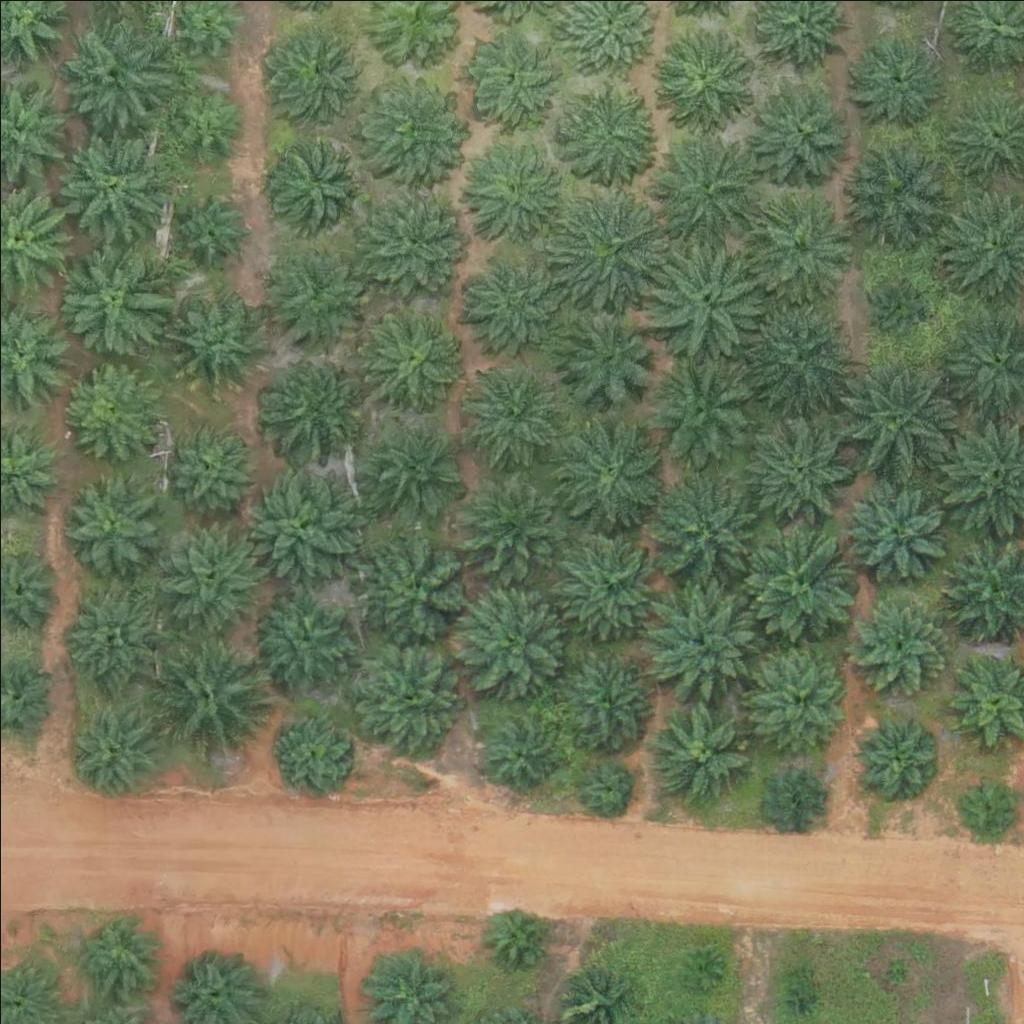Kelapa_Sawit: (832, 350, 957, 476), (731, 519, 856, 645), (735, 290, 860, 416), (648, 470, 773, 596), (638, 239, 763, 365), (543, 408, 668, 534), (548, 183, 673, 309), (343, 635, 468, 761), (355, 524, 480, 650), (350, 177, 475, 303), (235, 460, 360, 586), (144, 634, 269, 760), (148, 511, 273, 637), (46, 235, 171, 361), (46, 122, 171, 248), (642, 125, 767, 251), (547, 517, 672, 642), (836, 136, 949, 250), (646, 583, 759, 696), (645, 351, 758, 464), (550, 295, 663, 408), (451, 241, 564, 354), (56, 18, 169, 131), (359, 66, 472, 179), (463, 133, 576, 246), (739, 187, 851, 301), (836, 471, 948, 584), (745, 414, 857, 527), (458, 580, 570, 693), (457, 468, 569, 581), (852, 590, 952, 691), (748, 649, 848, 750), (648, 701, 748, 802), (559, 647, 659, 748), (360, 413, 460, 514), (359, 312, 459, 413), (252, 357, 352, 458), (264, 252, 364, 353), (161, 289, 261, 390), (268, 135, 368, 236), (266, 23, 366, 124), (461, 25, 561, 126), (560, 81, 660, 182), (254, 589, 354, 689), (64, 697, 164, 797), (60, 581, 160, 681), (60, 474, 160, 574), (58, 357, 158, 457), (655, 24, 755, 124), (755, 80, 855, 180), (847, 25, 947, 125), (850, 709, 938, 797), (469, 370, 557, 458), (72, 910, 159, 998), (165, 419, 252, 507), (272, 716, 347, 792), (168, 86, 243, 161), (481, 714, 556, 789), (175, 189, 250, 264), (486, 902, 549, 965), (864, 267, 927, 330), (763, 764, 826, 827), (954, 771, 1016, 834), (581, 760, 631, 810), (681, 951, 719, 989), (883, 957, 908, 982), (790, 989, 815, 1014)
